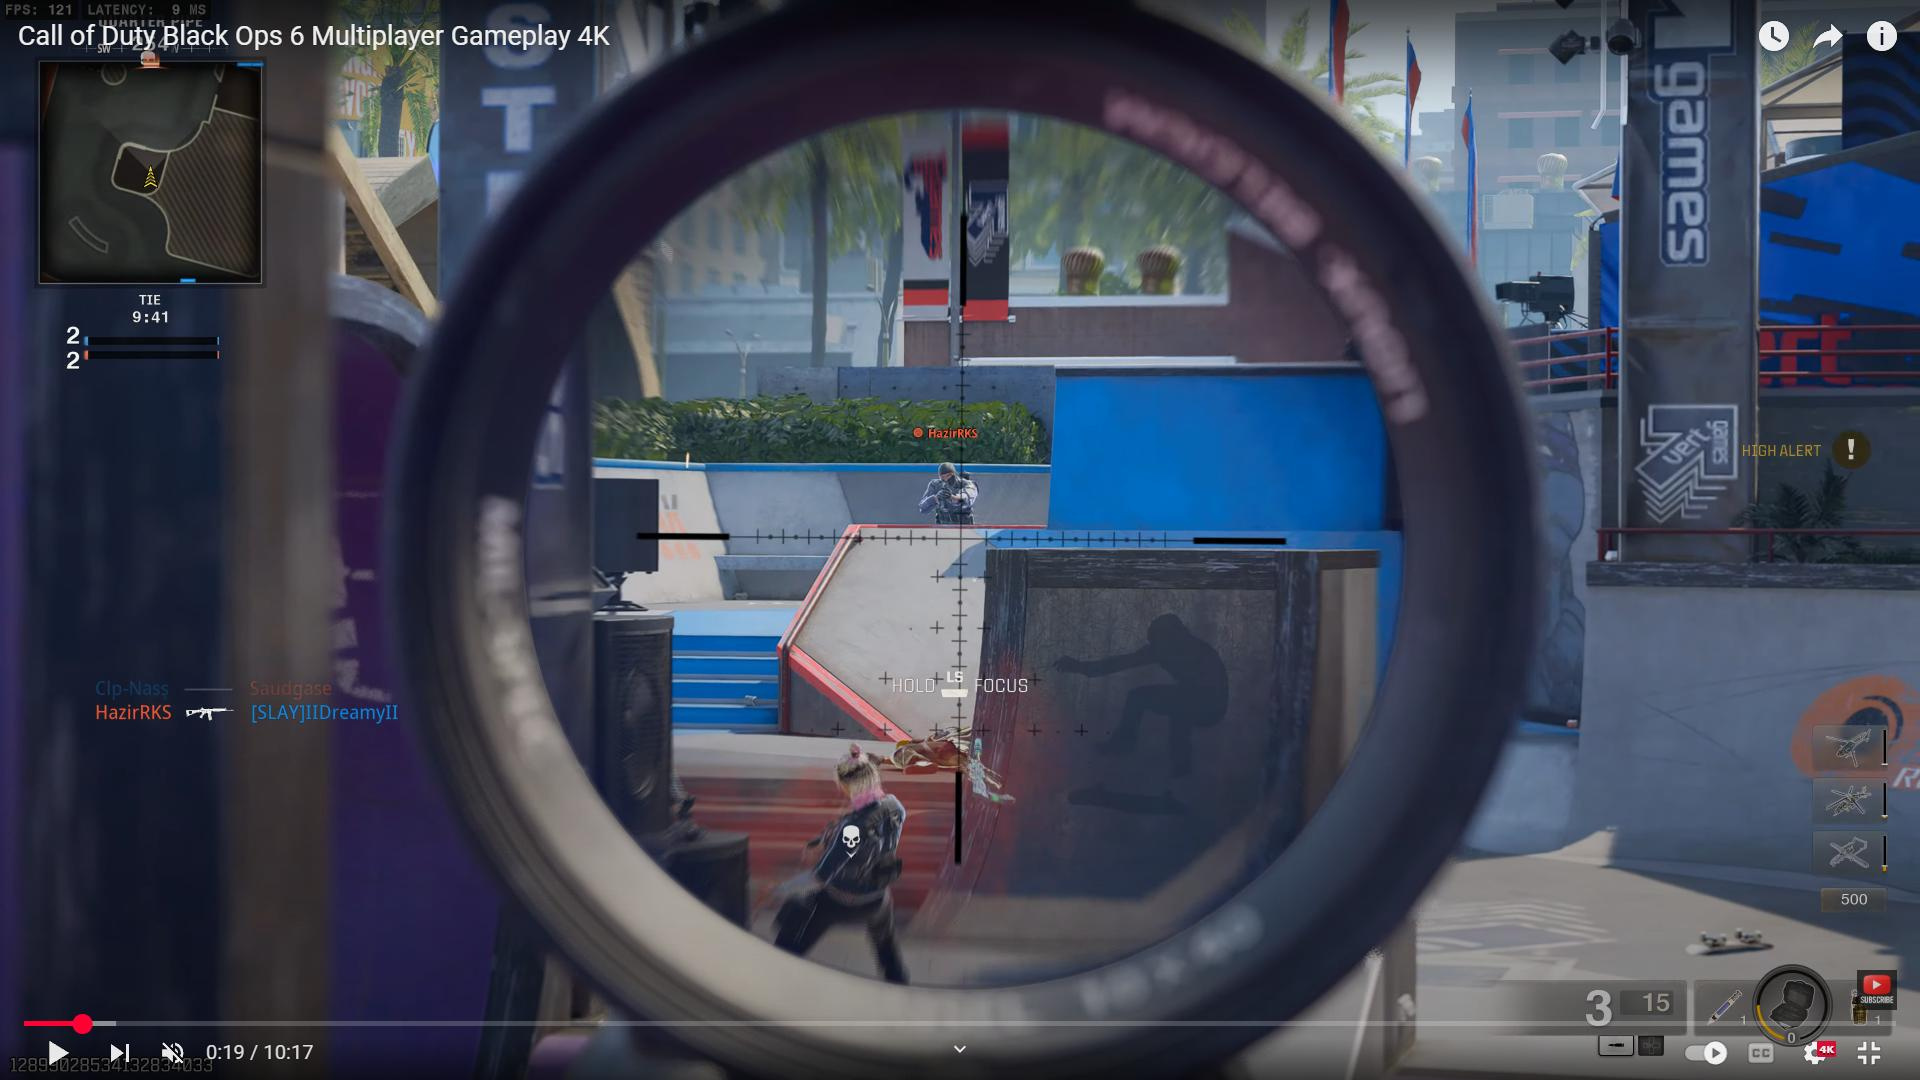Enemy: (915, 458, 980, 526)
